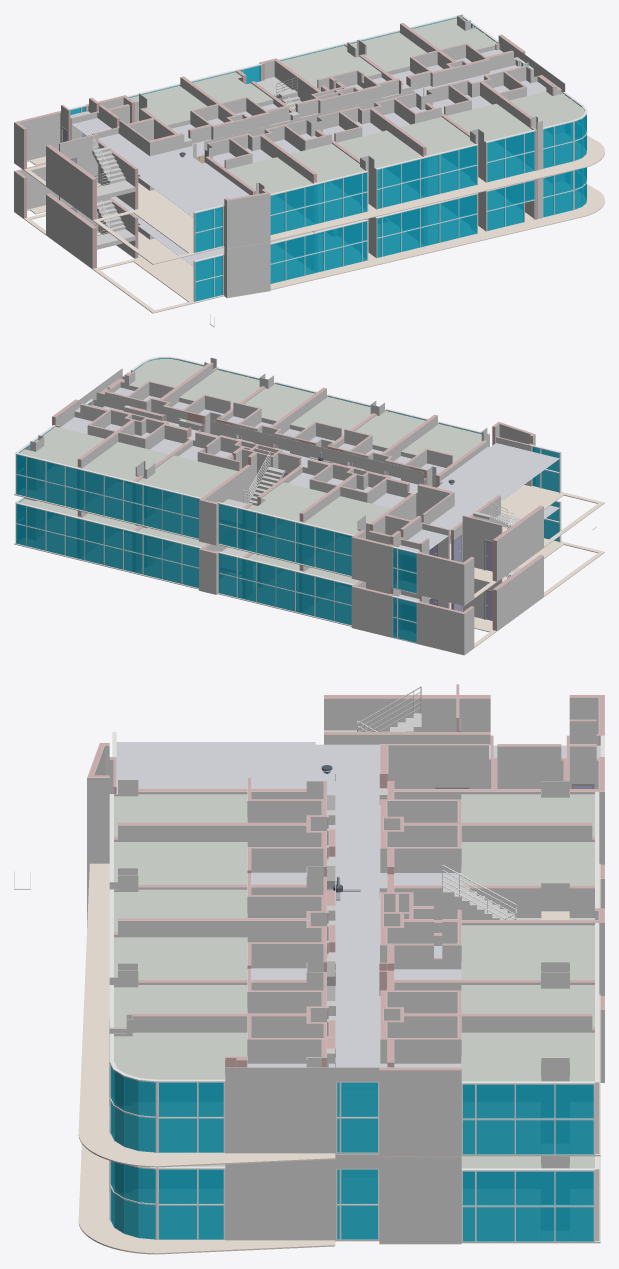
Rendered from 20260609_173819_MARRIOTT_DSC_ARC_R24_with_equipment.glb.
3 views of the same model, one above another, from view 1: azimuth 30°, elevation 25°; view 2: azimuth 150°, elevation 25°; view 3: azimuth 270°, elevation 25° (orthographic). The views are drawn at different scales.
Parts seen in each view (by area): view 1: MARRIOTT_EQUIPMENT_192,192,192,100, MARRIOTT_EQUIPMENT_0,128,192,65, MARRIOTT_EQUIPMENT_174,182,169,100, MARRIOTT_EQUIPMENT_237,214,197,100, MARRIOTT_EQUIPMENT_191,192,208,100, MARRIOTT_EQUIPMENT_192,131,131,100, MARRIOTT_EQUIPMENT_247,247,247,100, MARRIOTT_EQUIPMENT_255,255,255,100; view 2: MARRIOTT_EQUIPMENT_192,192,192,100, MARRIOTT_EQUIPMENT_0,128,192,65, MARRIOTT_EQUIPMENT_174,182,169,100, MARRIOTT_EQUIPMENT_191,192,208,100, MARRIOTT_EQUIPMENT_192,131,131,100, MARRIOTT_EQUIPMENT_247,247,247,100, MARRIOTT_EQUIPMENT_237,214,197,100, MARRIOTT_EQUIPMENT_128,128,192,100, MARRIOTT_EQUIPMENT_255,255,255,100; view 3: MARRIOTT_EQUIPMENT_192,192,192,100, MARRIOTT_EQUIPMENT_174,182,169,100, MARRIOTT_EQUIPMENT_0,128,192,65, MARRIOTT_EQUIPMENT_191,192,208,100, MARRIOTT_EQUIPMENT_192,131,131,100, MARRIOTT_EQUIPMENT_237,214,197,100, MARRIOTT_EQUIPMENT_247,247,247,100, MARRIOTT_EQUIPMENT_255,255,255,100.
Part boxes in pixels (x1,y1,x2,y2): MARRIOTT_EQUIPMENT_192,192,192,100: (14, 14, 565, 297); MARRIOTT_EQUIPMENT_0,128,192,65: (70, 17, 586, 301); MARRIOTT_EQUIPMENT_174,182,169,100: (130, 18, 584, 242); MARRIOTT_EQUIPMENT_237,214,197,100: (24, 135, 604, 313); MARRIOTT_EQUIPMENT_191,192,208,100: (70, 49, 546, 266); MARRIOTT_EQUIPMENT_192,131,131,100: (14, 23, 560, 268); MARRIOTT_EQUIPMENT_247,247,247,100: (69, 14, 587, 301); MARRIOTT_EQUIPMENT_255,255,255,100: (92, 77, 297, 327); MARRIOTT_EQUIPMENT_192,192,192,100: (24, 357, 543, 655); MARRIOTT_EQUIPMENT_0,128,192,65: (16, 358, 559, 642); MARRIOTT_EQUIPMENT_174,182,169,100: (19, 358, 482, 584); MARRIOTT_EQUIPMENT_191,192,208,100: (60, 387, 559, 601); MARRIOTT_EQUIPMENT_192,131,131,100: (52, 362, 543, 630); MARRIOTT_EQUIPMENT_247,247,247,100: (15, 356, 561, 643); MARRIOTT_EQUIPMENT_237,214,197,100: (14, 485, 604, 655); MARRIOTT_EQUIPMENT_128,128,192,100: (260, 474, 492, 620); MARRIOTT_EQUIPMENT_255,255,255,100: (243, 451, 596, 579); MARRIOTT_EQUIPMENT_192,192,192,100: (87, 684, 604, 1244); MARRIOTT_EQUIPMENT_174,182,169,100: (114, 794, 594, 1168); MARRIOTT_EQUIPMENT_0,128,192,65: (110, 1065, 593, 1241); MARRIOTT_EQUIPMENT_191,192,208,100: (116, 742, 600, 1067); MARRIOTT_EQUIPMENT_192,131,131,100: (87, 684, 604, 1070); MARRIOTT_EQUIPMENT_237,214,197,100: (78, 863, 600, 1254); MARRIOTT_EQUIPMENT_247,247,247,100: (109, 732, 604, 1243); MARRIOTT_EQUIPMENT_255,255,255,100: (14, 686, 516, 919).
Size of the model in its own units: 33.5 by 7.89 by 20.94.
